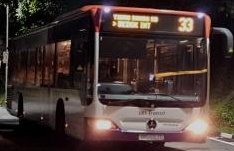bus: (171, 15, 198, 34)
